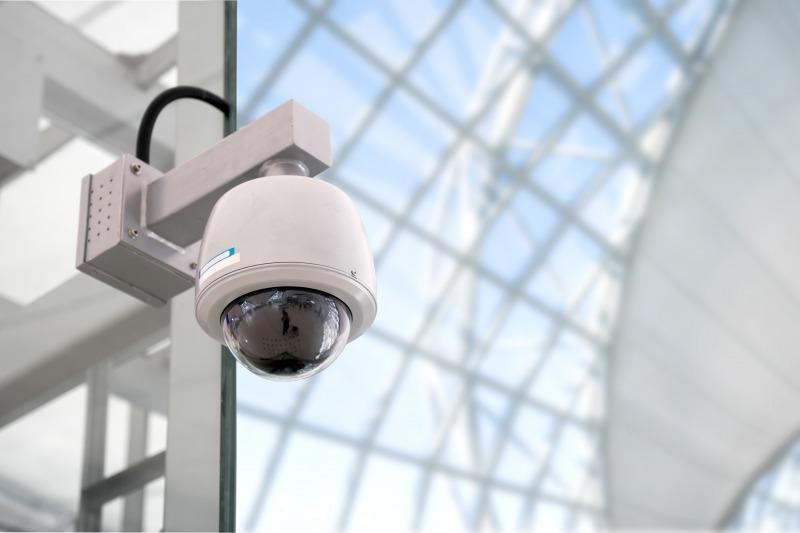maru: (183, 166, 390, 388)
